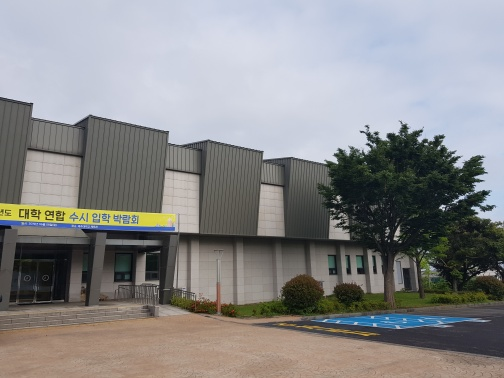Gym: (6, 101, 428, 292), (63, 118, 342, 241), (2, 228, 187, 310)
